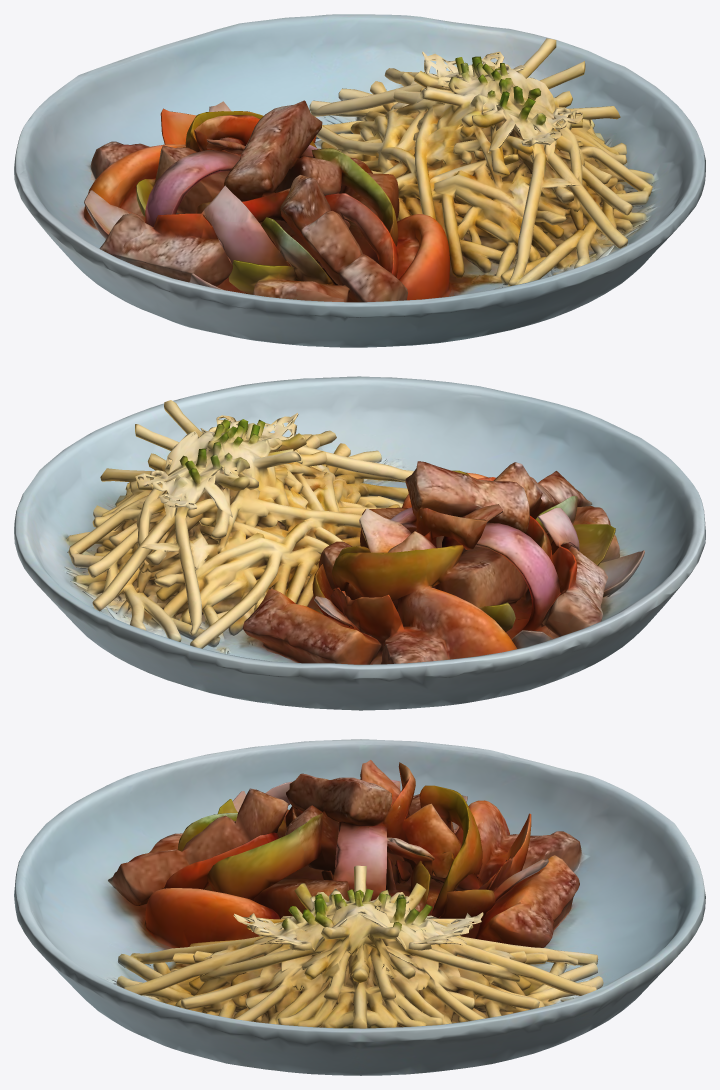
The model's file is lomosalteado.glb.
3 views of the same model, one above another, from view 1: azimuth 30°, elevation 25°; view 2: azimuth 150°, elevation 25°; view 3: azimuth 270°, elevation 25° (orthographic).
Parts seen in each view (by area): view 1: tripo_node_9fcae774-54af-42b6-ada2-72ad28494879; view 2: tripo_node_9fcae774-54af-42b6-ada2-72ad28494879; view 3: tripo_node_9fcae774-54af-42b6-ada2-72ad28494879.
Part boxes in pixels (x1,y1,x2,y2): tripo_node_9fcae774-54af-42b6-ada2-72ad28494879: [14, 14, 705, 347]; tripo_node_9fcae774-54af-42b6-ada2-72ad28494879: [14, 376, 705, 710]; tripo_node_9fcae774-54af-42b6-ada2-72ad28494879: [14, 739, 705, 1075].
Bounding box in the file's own units: 0.2442 × 0.0637 × 0.2434.
1 material, 1 textured.
